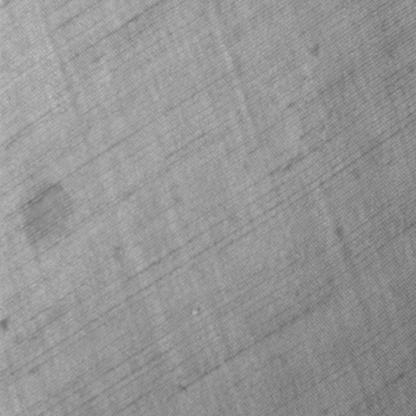oil spot: (18, 176, 75, 254)
